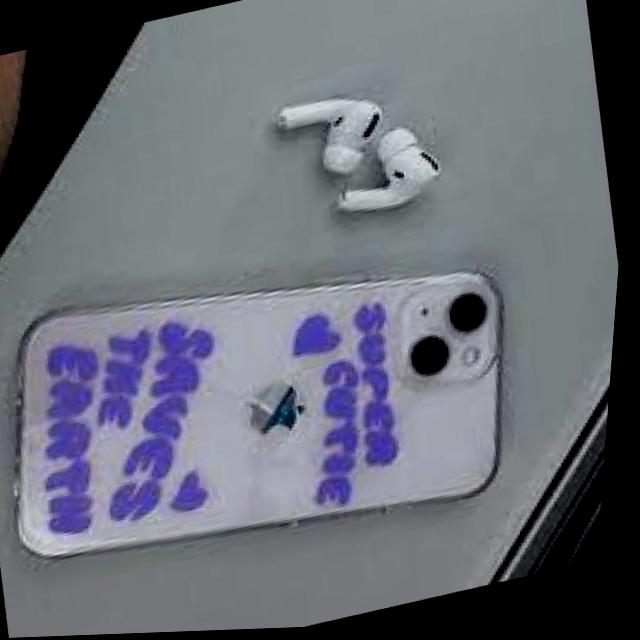Smartphone: (12, 266, 527, 574)
